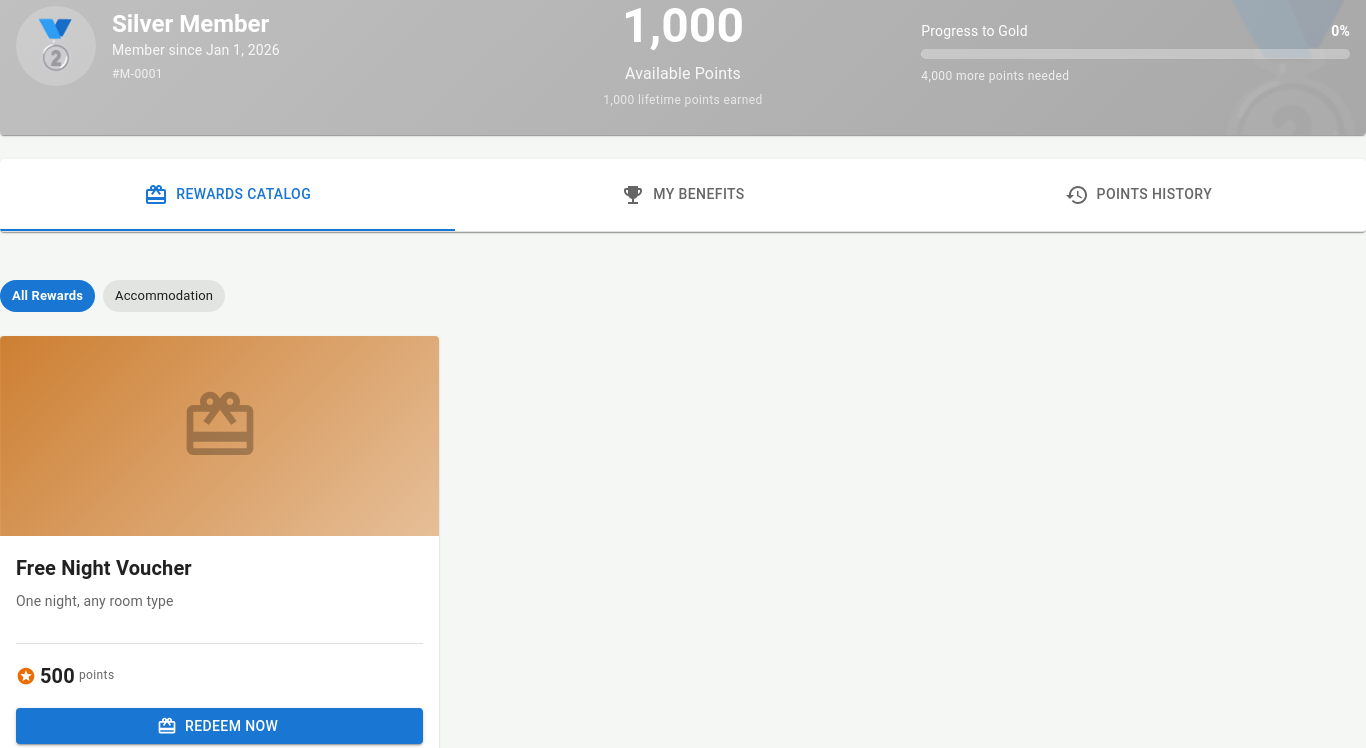
Scenario: LoyaltyDashboard member view › redeems through the confirmation dialog and reports success
(page scrolled)
Click the button "Redeem Now" at (220, 726), box top-left (16, 708), bottom-right (423, 744)
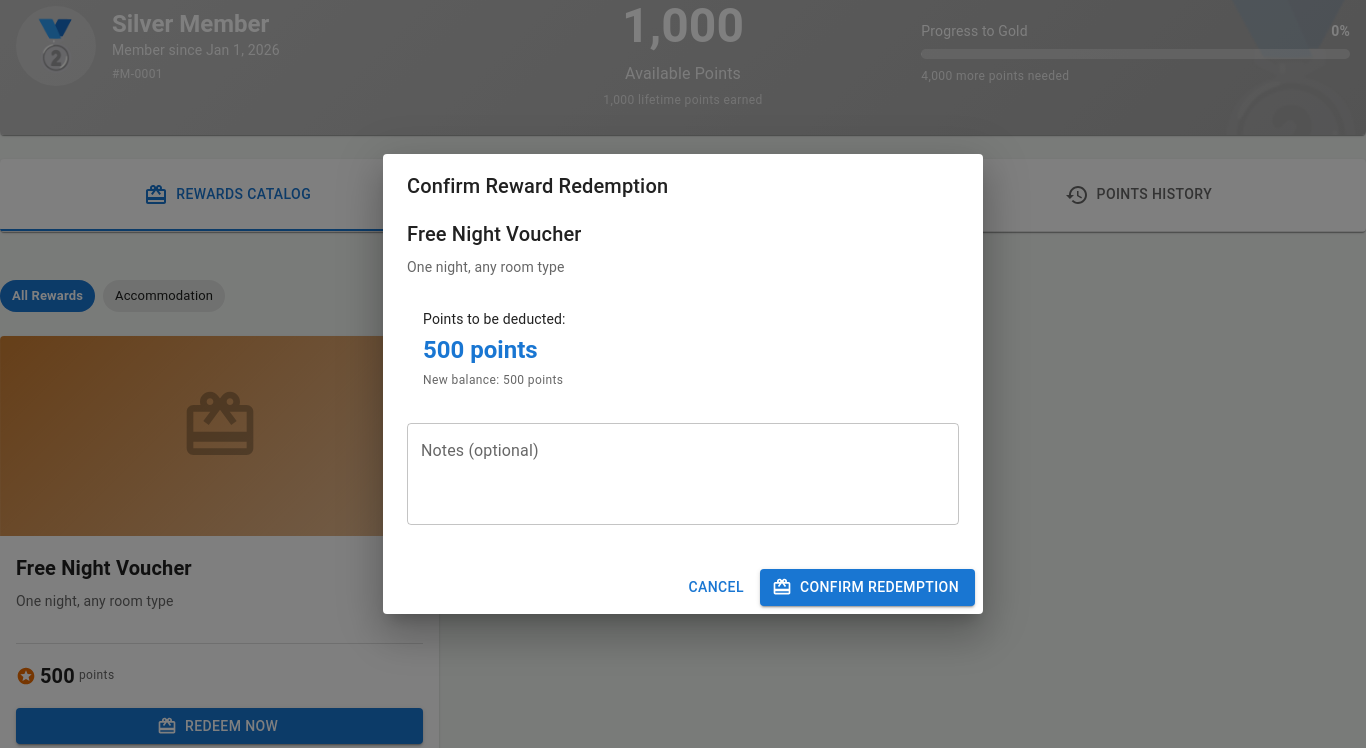
Now the heading "Confirm Reward Redemption" is shown, box top-left (407, 174), bottom-right (668, 198)
Type "Anniversary night" into the text box labelled "Notes (optional)" at (683, 474), box top-left (421, 440), bottom-right (945, 509)
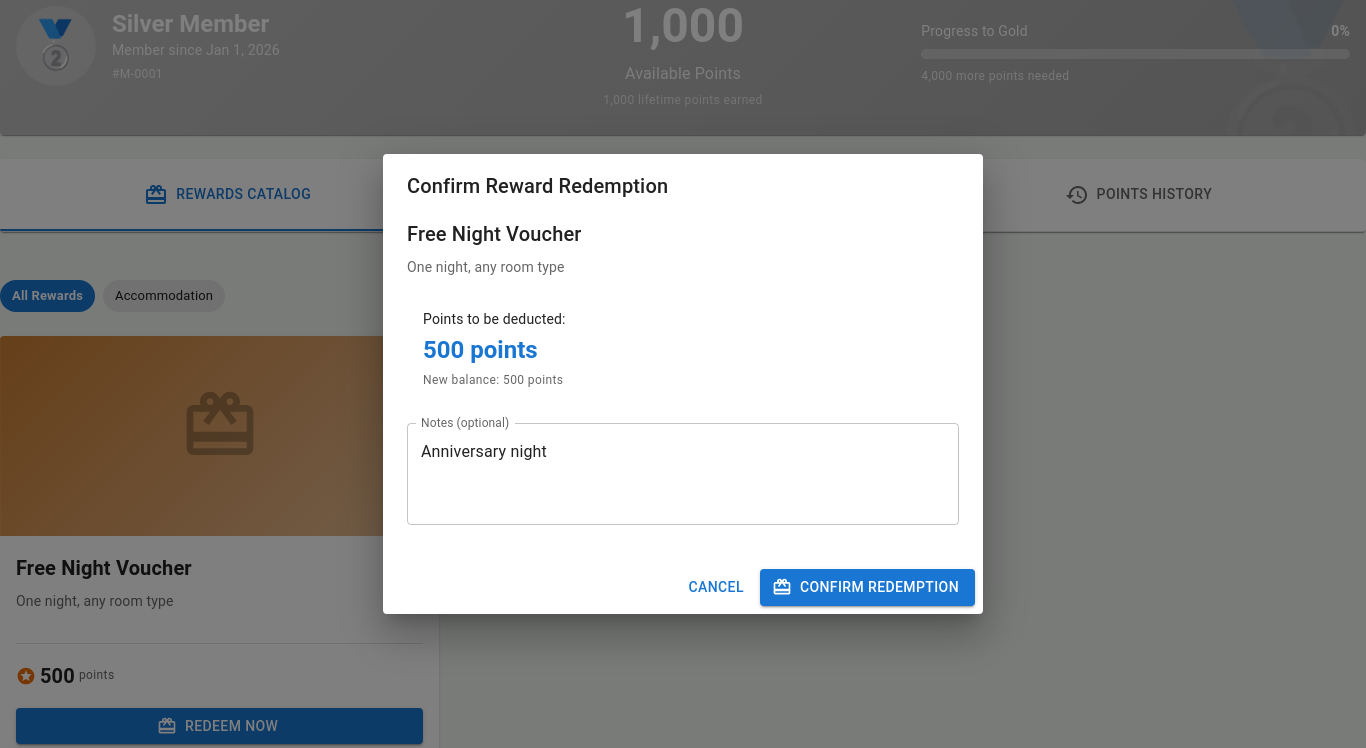
Click the button "Confirm Redemption" at (867, 587), box top-left (760, 569), bottom-right (975, 606)
(page scrolled)
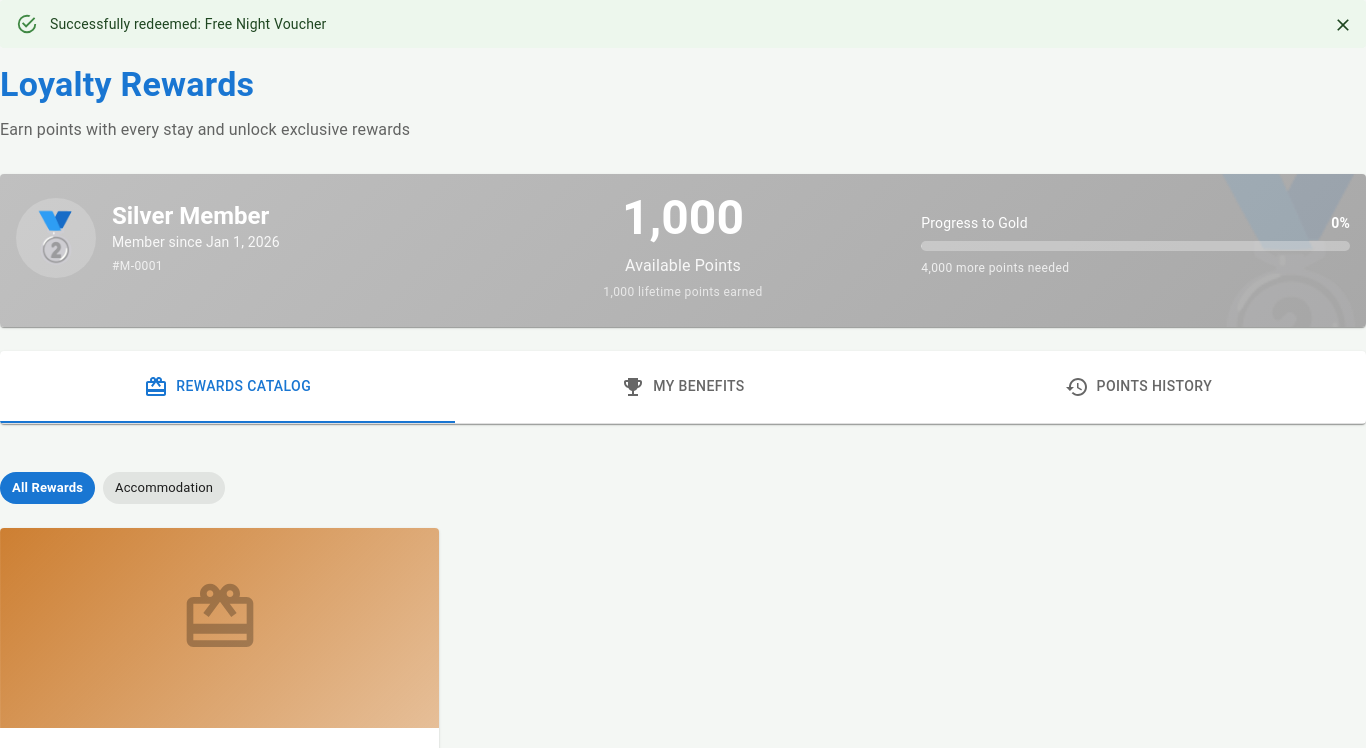
Now the text "Successfully redeemed: Free Night Voucher" is shown, box top-left (50, 16), bottom-right (326, 32)
